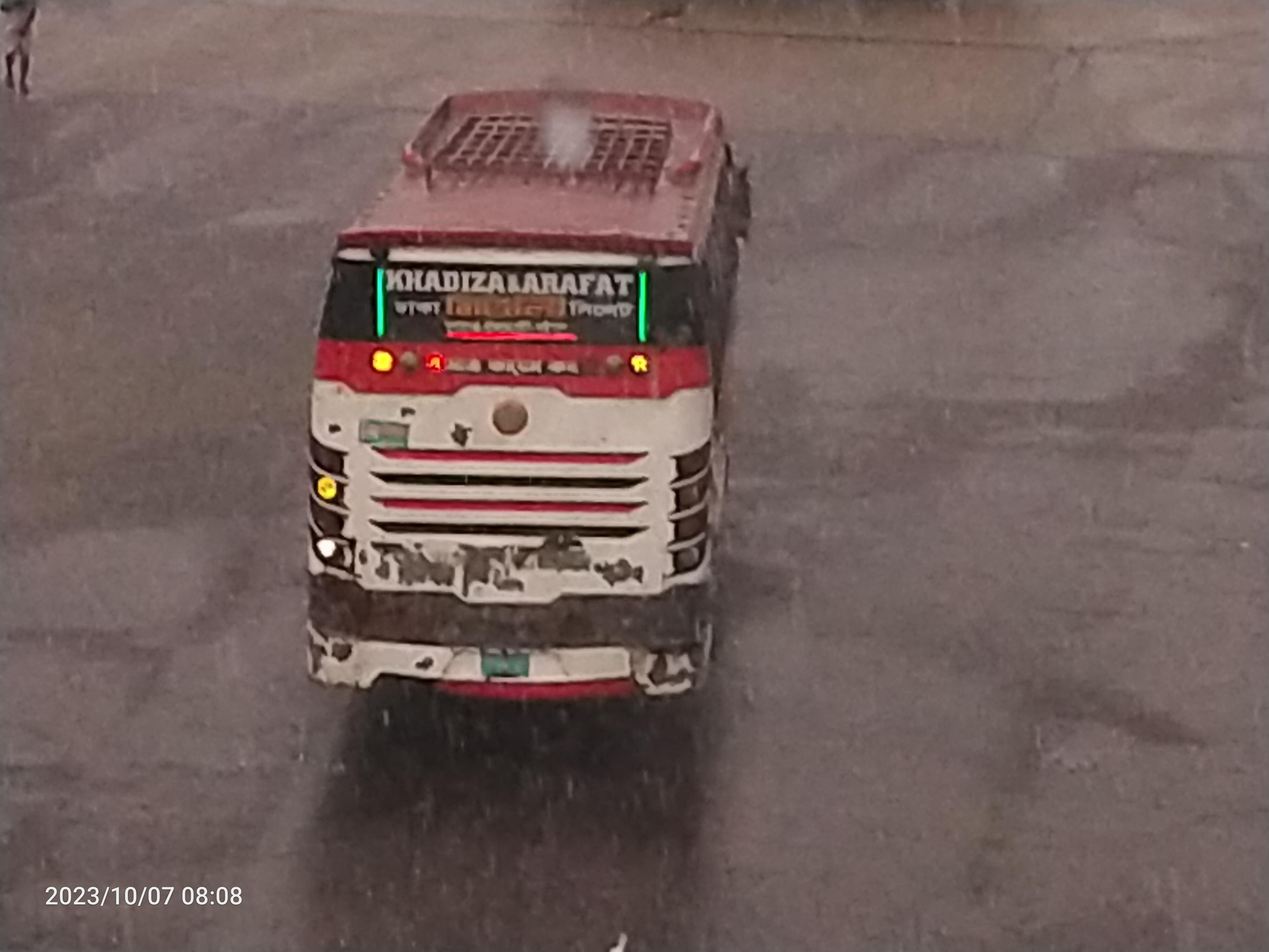Bus: (214, 39, 799, 779)
